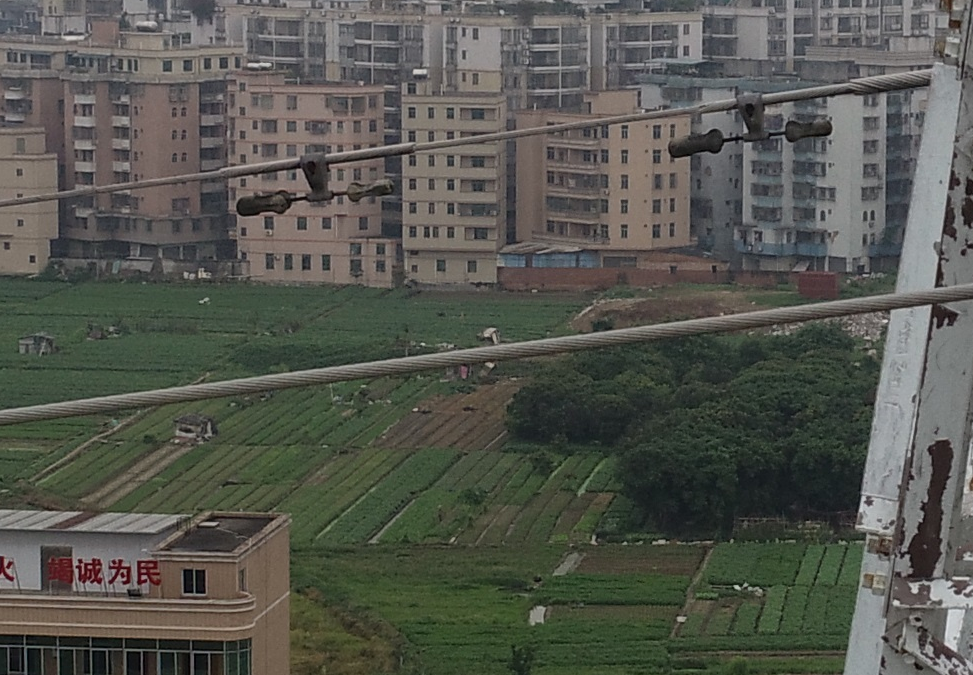damper: (667, 87, 835, 162), (233, 147, 395, 220)
